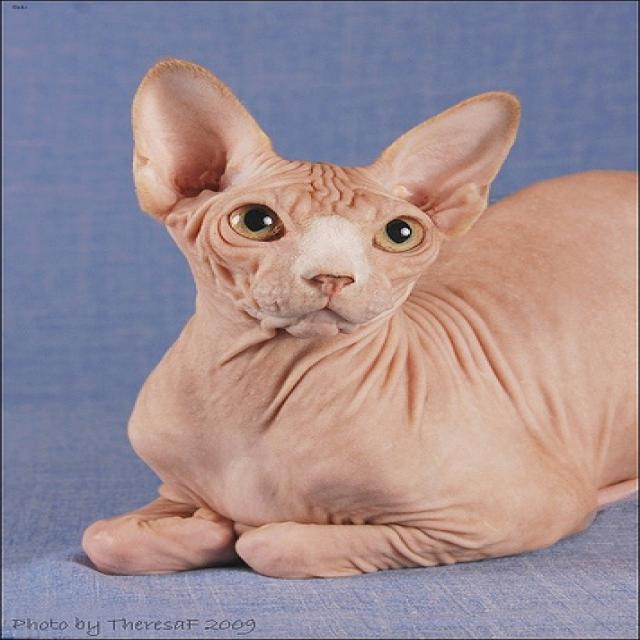Sphynx: (129, 56, 518, 334)
